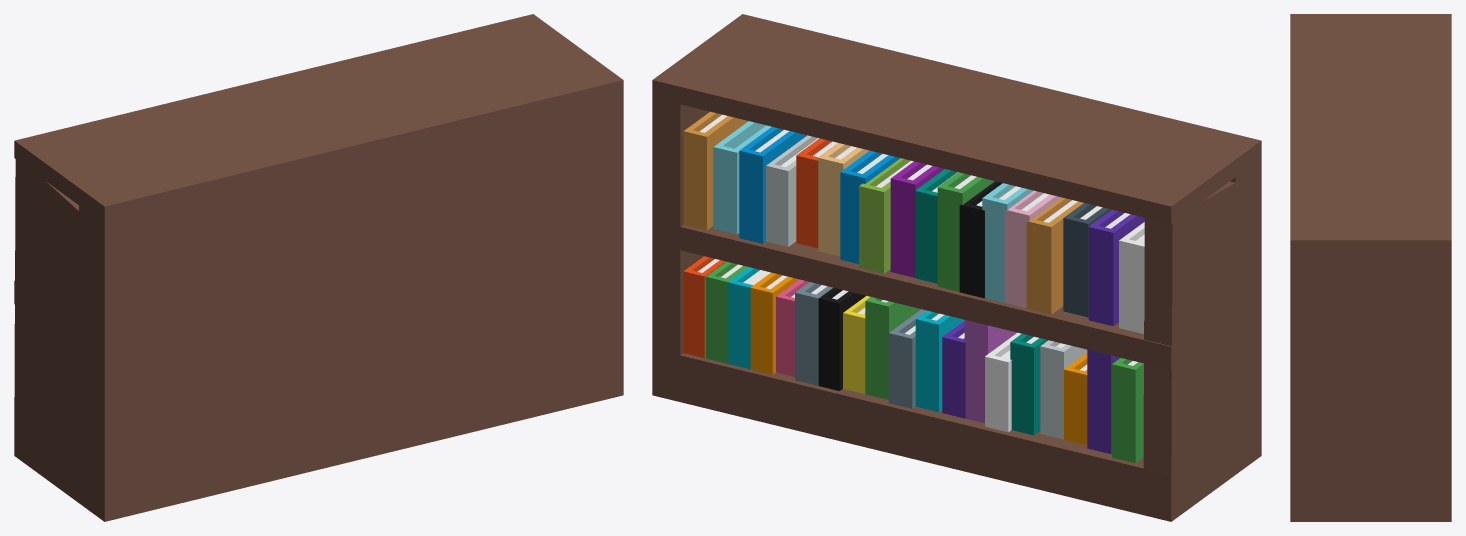
The model's file is Bookshelf 4.glb.
3 renders of one model, left to right at view 1: azimuth 30°, elevation 25°; view 2: azimuth 150°, elevation 25°; view 3: azimuth 270°, elevation 25°, orthographic. The views are drawn at different scales.
Visible parts, largest first — view 1: group1627220740, group1653331851, group1157935093, group1141386355, group1232064123; view 2: group1653331851, group1157935093, group1141386355, group1232064123, group570676340, group1627220740, group1581940073, group417023748, group2040295764, group1239591964, group763370712, group1931339425 (+59 smaller); view 3: group1653331851, group570676340, group1627220740, group1157935093.
Part boxes in pixels (x1,y1,x2,y2): group1627220740: (79,97,623,480); group1653331851: (14,14,623,223); group1157935093: (14,348,623,521); group1141386355: (14,154,83,463); group1232064123: (14,280,85,355); group1653331851: (652,14,1261,223); group1157935093: (652,353,1261,521); group1141386355: (1143,180,1240,480); group1232064123: (680,224,1242,369); group570676340: (652,97,709,360); group1627220740: (1230,158,1261,433); group1581940073: (1063,217,1091,317); group417023748: (890,177,918,276); group2040295764: (937,186,965,291); group1239591964: (1088,226,1113,325); group763370712: (818,156,846,256); group1931339425: (959,203,984,297); group1653331851: (1290,14,1451,255); group570676340: (1313,256,1451,480); group1627220740: (1290,256,1336,480); group1157935093: (1290,480,1451,521).
Size of the model in its own units: 0.93 by 0.54 by 0.28.
